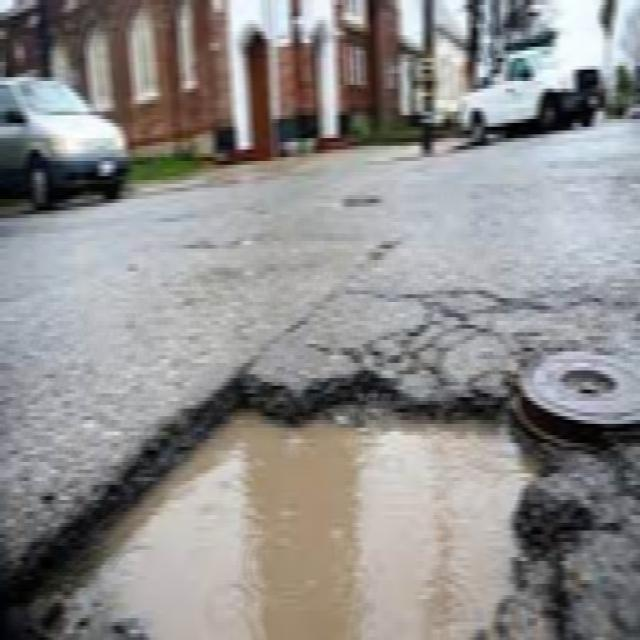Pothole: (6, 353, 640, 639)
